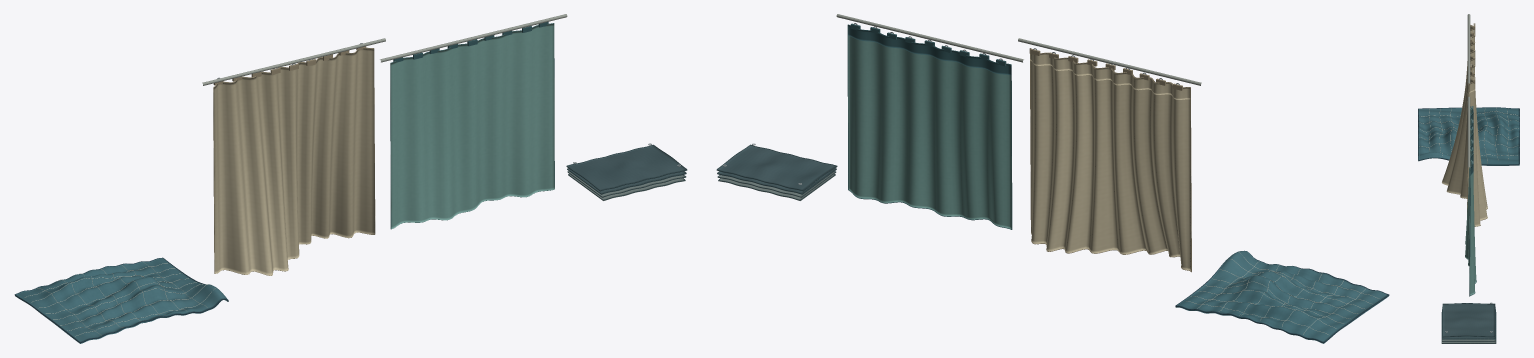
3 views of the same model, side by side, from view 1: azimuth 30°, elevation 25°; view 2: azimuth 150°, elevation 25°; view 3: azimuth 270°, elevation 25° (orthographic). The views are drawn at different scales.
Visible parts, largest first — view 1: VIS_Curtain_HANG_Body, VIS_Clinic_Privacy_Sheet_HANG_Body, VIS_Quilt_FALLEN_Body, VIS_Tarp_FOLD_FoldLayer_03, VIS_Quilt_FALLEN_Quilting_SewLines_U, VIS_Clinic_Privacy_Sheet_HANG_Hanger_Rail, VIS_Curtain_HANG_Hanger_Rail, VIS_Quilt_FALLEN_Binding; view 2: VIS_Curtain_HANG_Body, VIS_Clinic_Privacy_Sheet_HANG_Body, VIS_Quilt_FALLEN_Body, VIS_Tarp_FOLD_FoldLayer_03, VIS_Curtain_HANG_Reinforced_Header, VIS_Clinic_Privacy_Sheet_HANG_Reinforced_Header, VIS_Quilt_FALLEN_Quilting_SewLines_U, VIS_Curtain_HANG_Hem, VIS_Clinic_Privacy_Sheet_HANG_Hem, VIS_Clinic_Privacy_Sheet_HANG_Hanger_Rail, VIS_Curtain_HANG_Hanger_Rail, VIS_Quilt_FALLEN_Binding (+2 smaller); view 3: VIS_Quilt_FALLEN_Body, VIS_Curtain_HANG_Body, VIS_Tarp_FOLD_FoldLayer_03, VIS_Clinic_Privacy_Sheet_HANG_Body, VIS_Quilt_FALLEN_Binding, VIS_Quilt_FALLEN_Quilting_SewLines_V, VIS_Clinic_Privacy_Sheet_HANG_Hanger_Rail, VIS_Curtain_HANG_Hanger_Rail, VIS_Curtain_HANG_Reinforced_Header, VIS_Quilt_FALLEN_Quilting_SewLines_U, VIS_Clinic_Privacy_Sheet_HANG_Hem, VIS_Tarp_FOLD_FoldHem_03 (+10 smaller).
Part boxes in pixels (x1,y1,x2,y2): VIS_Curtain_HANG_Body: (213, 48, 375, 275); VIS_Clinic_Privacy_Sheet_HANG_Body: (390, 23, 554, 228); VIS_Quilt_FALLEN_Body: (15, 258, 228, 343); VIS_Tarp_FOLD_FoldLayer_03: (567, 145, 687, 191); VIS_Quilt_FALLEN_Quilting_SewLines_U: (24, 263, 215, 336); VIS_Clinic_Privacy_Sheet_HANG_Hanger_Rail: (380, 14, 567, 62); VIS_Curtain_HANG_Hanger_Rail: (202, 38, 385, 85); VIS_Quilt_FALLEN_Binding: (14, 257, 228, 342); VIS_Curtain_HANG_Body: (1030, 60, 1191, 270); VIS_Clinic_Privacy_Sheet_HANG_Body: (848, 36, 1011, 228); VIS_Quilt_FALLEN_Body: (1175, 251, 1388, 343); VIS_Tarp_FOLD_FoldLayer_03: (716, 145, 836, 191); VIS_Curtain_HANG_Reinforced_Header: (1030, 48, 1190, 99); VIS_Clinic_Privacy_Sheet_HANG_Reinforced_Header: (848, 25, 1011, 75); VIS_Quilt_FALLEN_Quilting_SewLines_U: (1186, 252, 1379, 334); VIS_Curtain_HANG_Hem: (1029, 48, 1191, 272); VIS_Clinic_Privacy_Sheet_HANG_Hem: (847, 24, 1012, 229); VIS_Clinic_Privacy_Sheet_HANG_Hanger_Rail: (836, 14, 1023, 62); VIS_Curtain_HANG_Hanger_Rail: (1018, 38, 1201, 85); VIS_Quilt_FALLEN_Binding: (1175, 250, 1389, 342); VIS_Quilt_FALLEN_Body: (1418, 107, 1519, 165); VIS_Curtain_HANG_Body: (1442, 25, 1487, 226); VIS_Tarp_FOLD_FoldLayer_03: (1443, 303, 1494, 337); VIS_Clinic_Privacy_Sheet_HANG_Body: (1465, 107, 1476, 295); VIS_Quilt_FALLEN_Binding: (1418, 107, 1519, 165); VIS_Quilt_FALLEN_Quilting_SewLines_V: (1419, 111, 1518, 155); VIS_Clinic_Privacy_Sheet_HANG_Hanger_Rail: (1467, 96, 1470, 167); VIS_Curtain_HANG_Hanger_Rail: (1467, 14, 1470, 83); VIS_Curtain_HANG_Reinforced_Header: (1469, 29, 1475, 93); VIS_Quilt_FALLEN_Quilting_SewLines_U: (1429, 107, 1508, 163); VIS_Clinic_Privacy_Sheet_HANG_Hem: (1469, 106, 1476, 296); VIS_Tarp_FOLD_FoldHem_03: (1442, 303, 1495, 336).
Size of the model in its own units: 8.16 by 2.49 by 1.49.
Materials: 1 (1 with a texture image).
